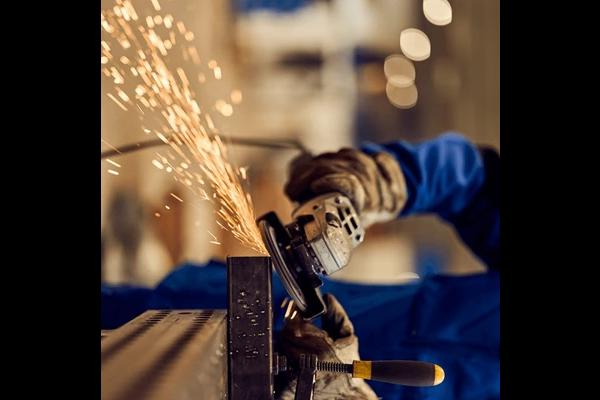controlled_fire: (106, 0, 278, 267)
